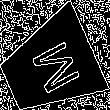M_SW: (20, 35, 80, 98)
